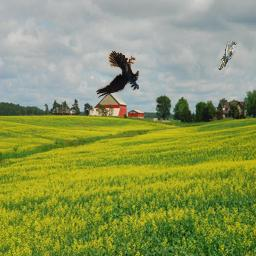Crow: (96, 51, 139, 99)
Cuckoo: (218, 41, 237, 70)
